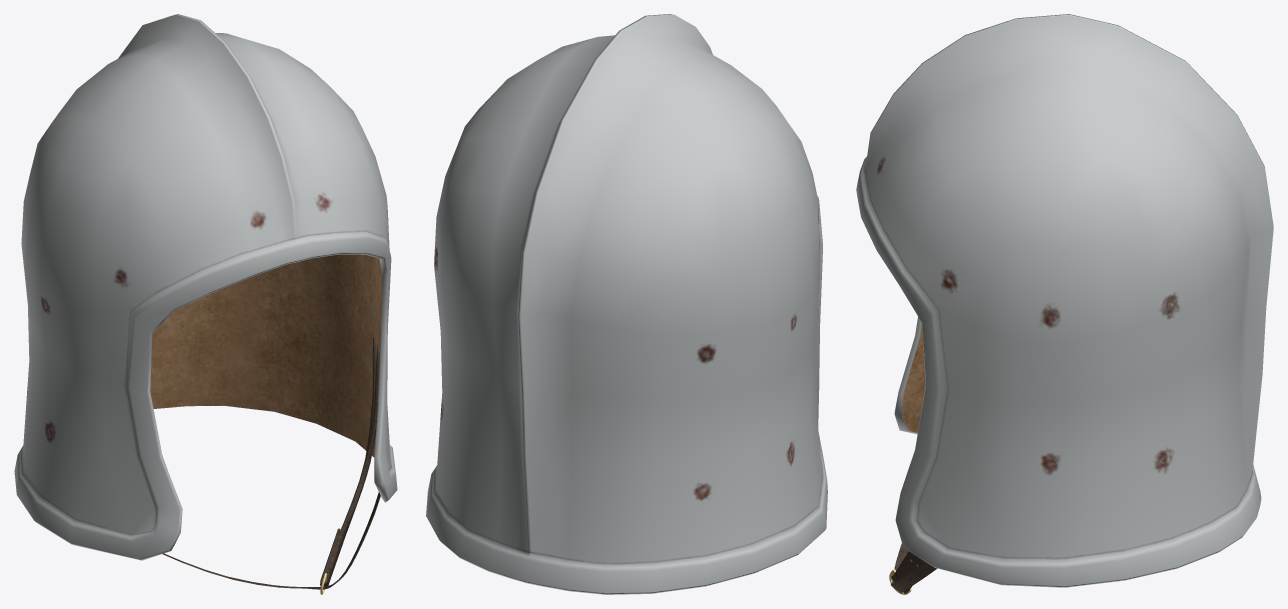
The picture shows the model from 3 angles, left to right: view 1: azimuth 30°, elevation 25°; view 2: azimuth 150°, elevation 25°; view 3: azimuth 270°, elevation 25°; orthographic projection. The views are drawn at different scales.
Parts seen in each view (by area): view 1: Helmet_Low, Strap1_Low, Strap2_Low; view 2: Helmet_Low; view 3: Helmet_Low, Strap2_Low.
Part boxes in pixels (<box>): Helmet_Low: <box>14,14,397,560</box>; Strap1_Low: <box>320,337,379,586</box>; Strap2_Low: <box>162,492,380,589</box>; Helmet_Low: <box>426,14,827,594</box>; Helmet_Low: <box>856,14,1273,587</box>; Strap2_Low: <box>891,543,937,593</box>.
Size of the model in its own units: 1.34 by 2 by 1.36.
Materials: 1 (1 with a texture image).
